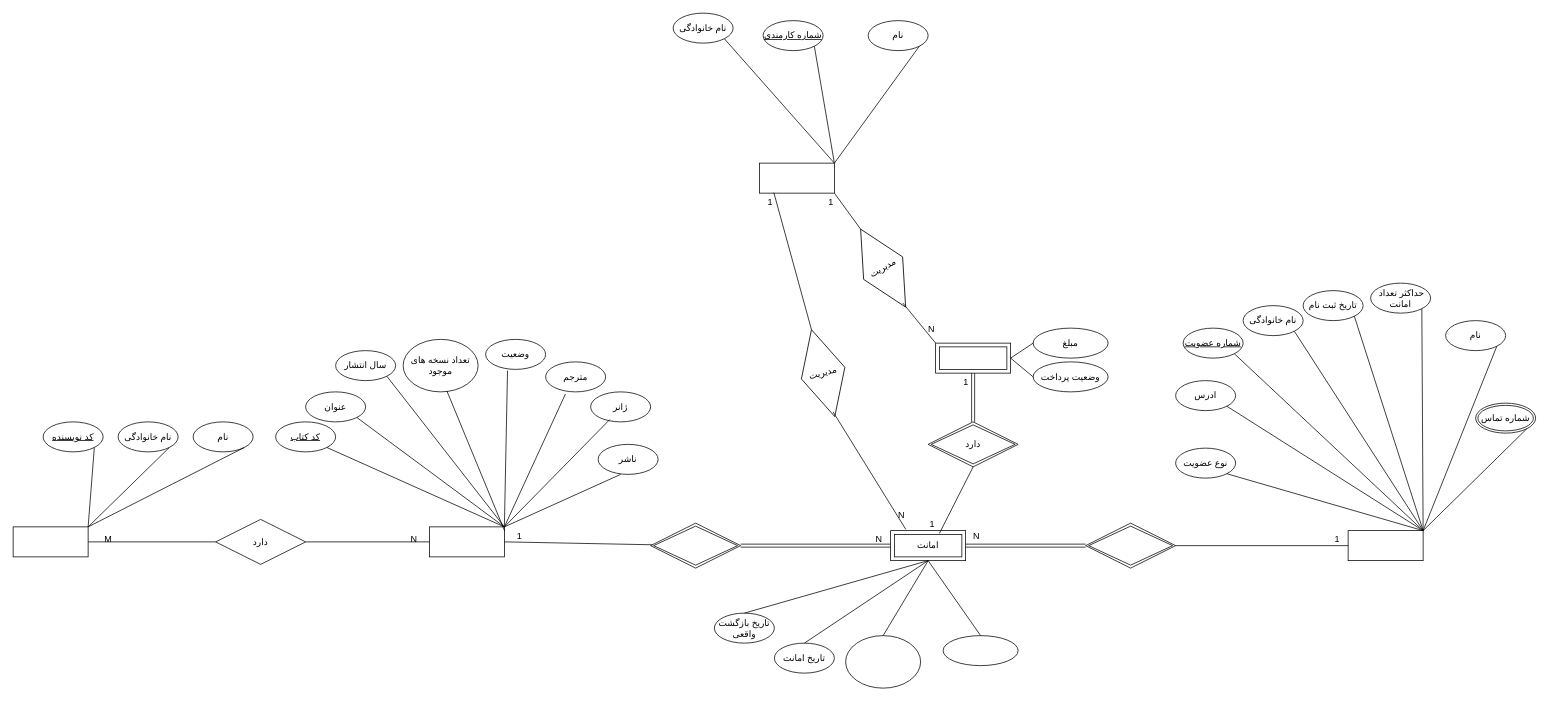
The diagram is 1549 pixels wide and 701 high, and some of its shapes have lost their labels. Here are the shapes that lost their labels. From the top down, the centre of each, then its label:
At pixel 796 177: "کارمند".
At pixel 973 357: "جریمه".
At pixel 50 541: "نویسنده".
At pixel 466 541: "کتاب".
At pixel 695 545: "داده می شود".
At pixel 1130 545: "میگیرد".
At pixel 1385 545: "عضو".
At pixel 883 661: "تاریخ بازگشت پیش بینی شده".
At pixel 980 650: "کد امانت".
